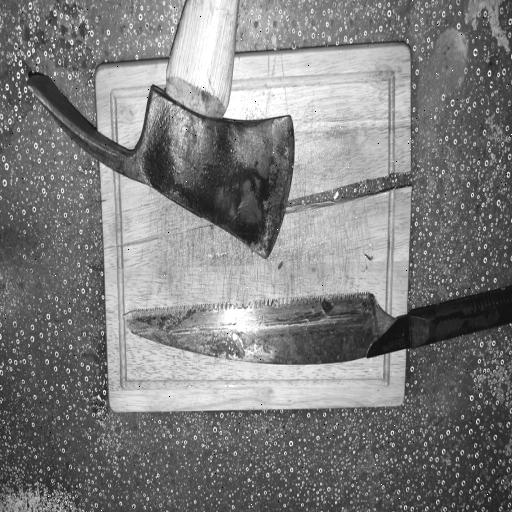Axe: (26, 0, 296, 265)
